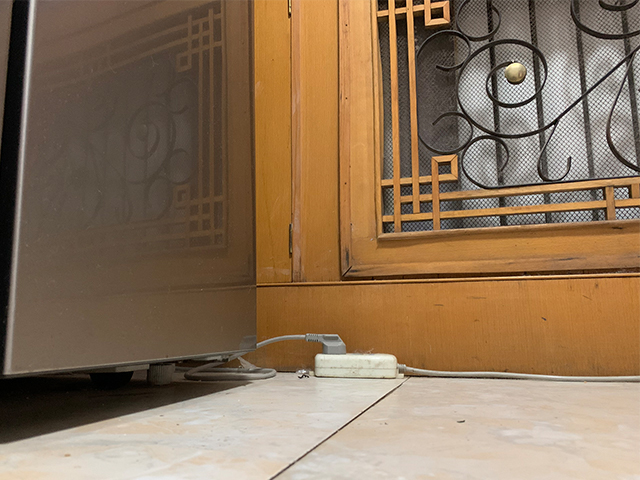wire: (184, 332, 640, 384)
